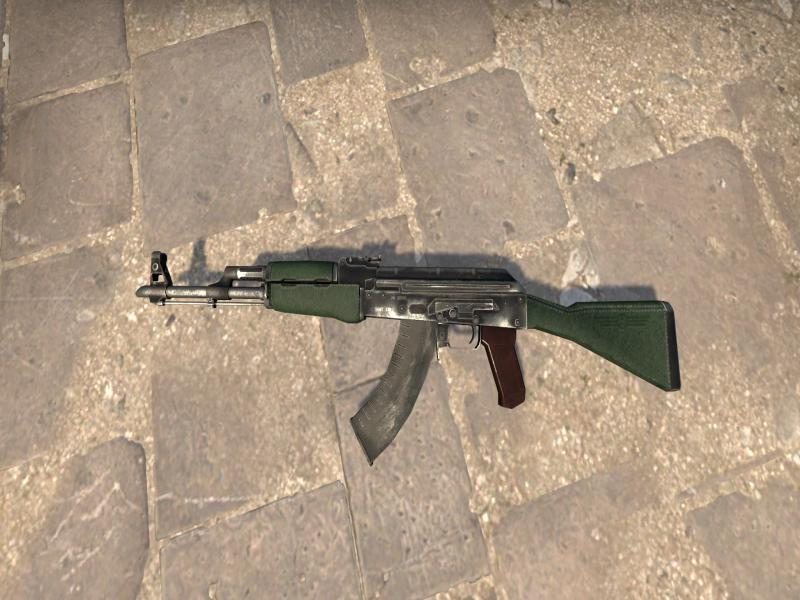AK47: (137, 256, 681, 459)
